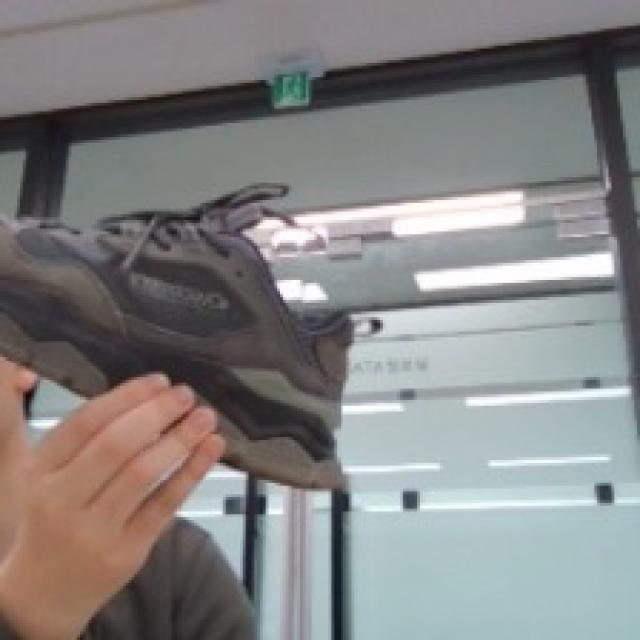shoe: (0, 183, 378, 519)
